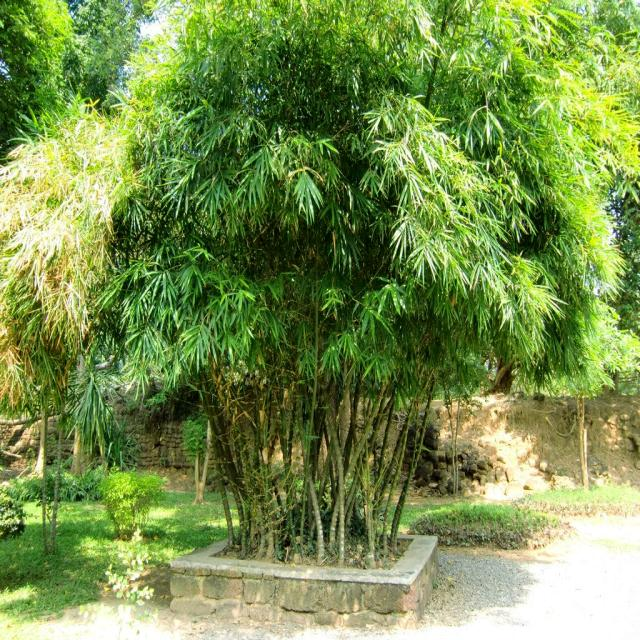Clumping: (124, 4, 502, 588)
